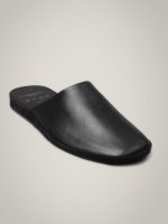shoes: (9, 77, 156, 169)
